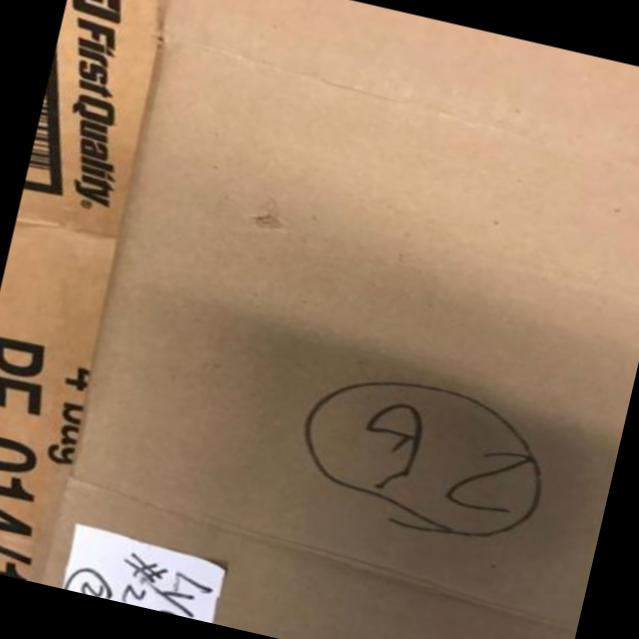cardboard paper: (42, 0, 639, 639), (63, 522, 225, 623)
